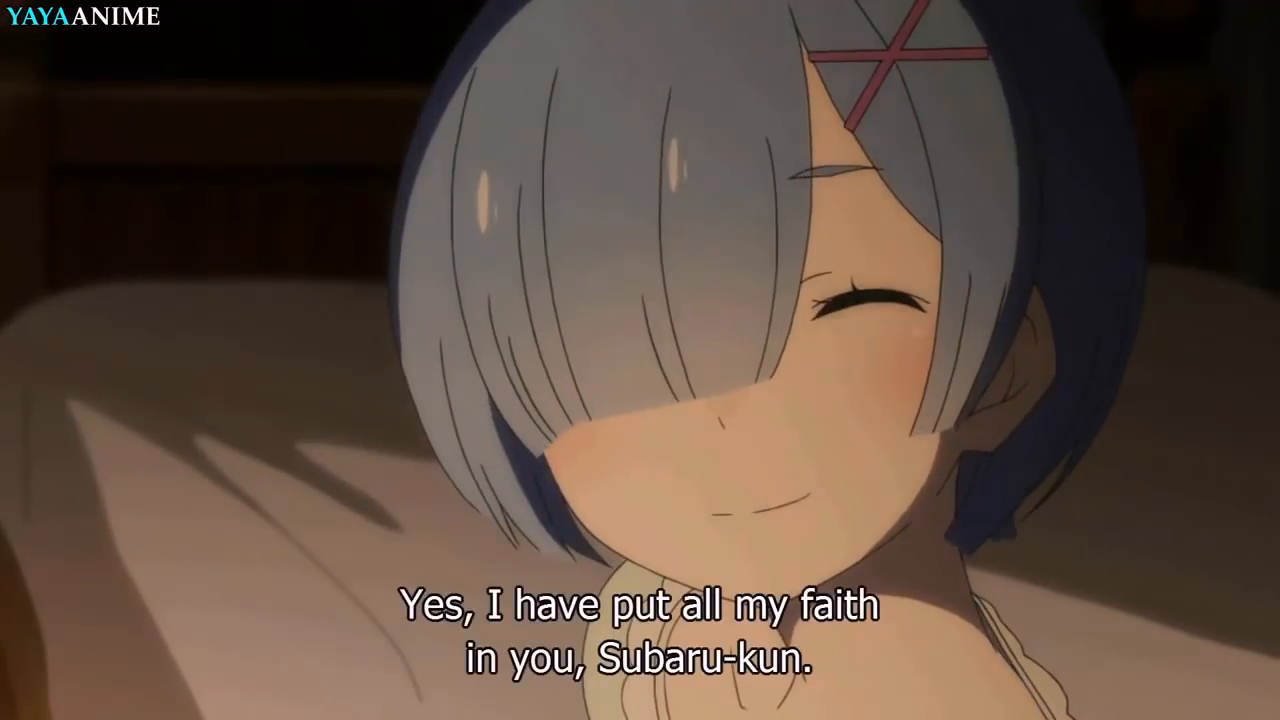REM: (393, 2, 1154, 604)
